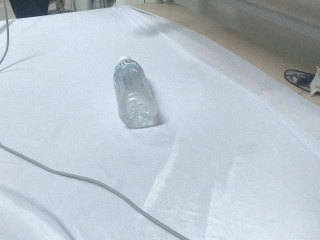bottle: (113, 56, 161, 130)
